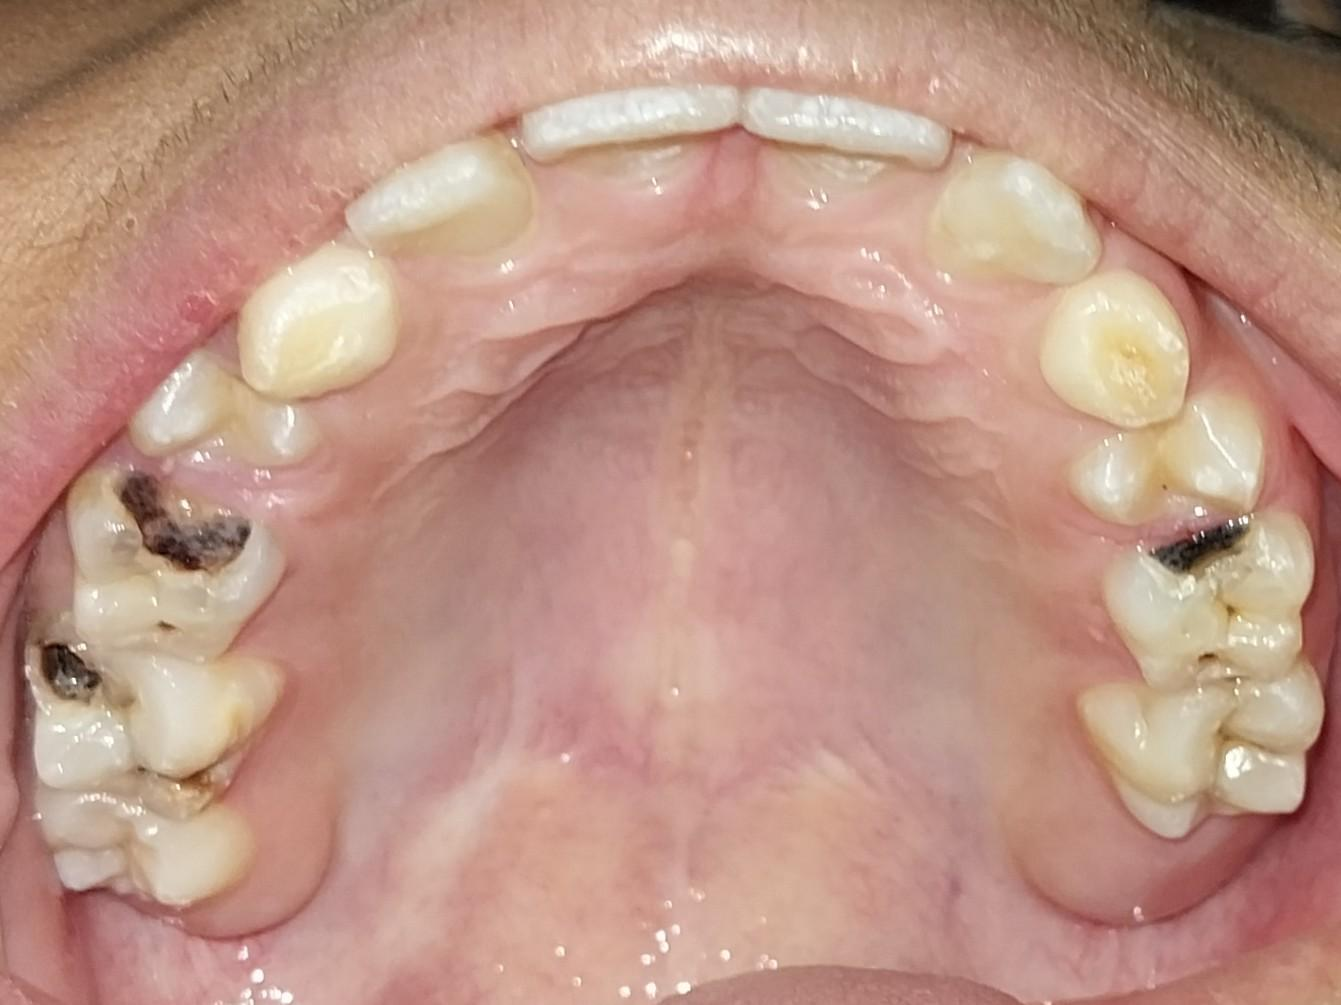D: (12, 622, 282, 819)
d: (1082, 529, 1328, 699), (62, 465, 275, 660)
